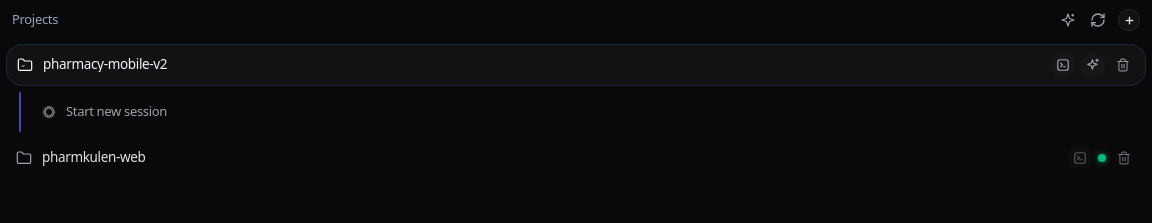
it: ProjectsSidebarNav › deletes a thread after confirmation
The image size is (1152, 223).
Click the button "Start new session" at {"x": 117, "y": 111}, box left=18, top=96, right=1146, bottom=128
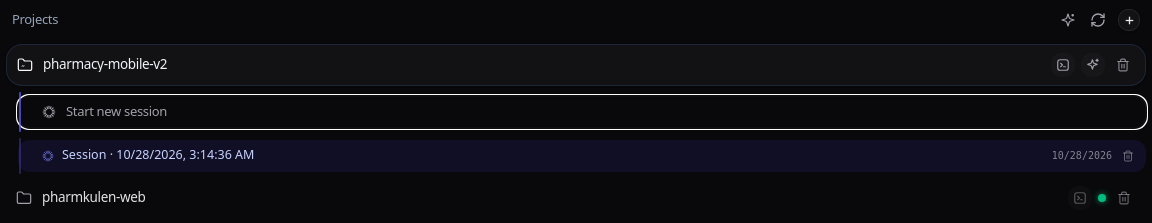
Click the button titled "Delete Thread" at {"x": 1128, "y": 156}, box left=1118, top=146, right=1138, bottom=166
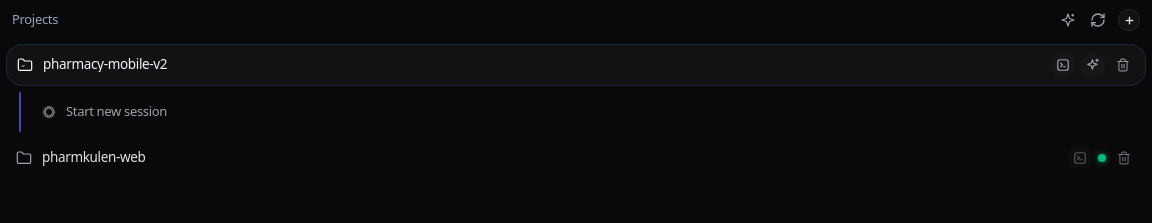
Result: the text "Session ·" is gone
